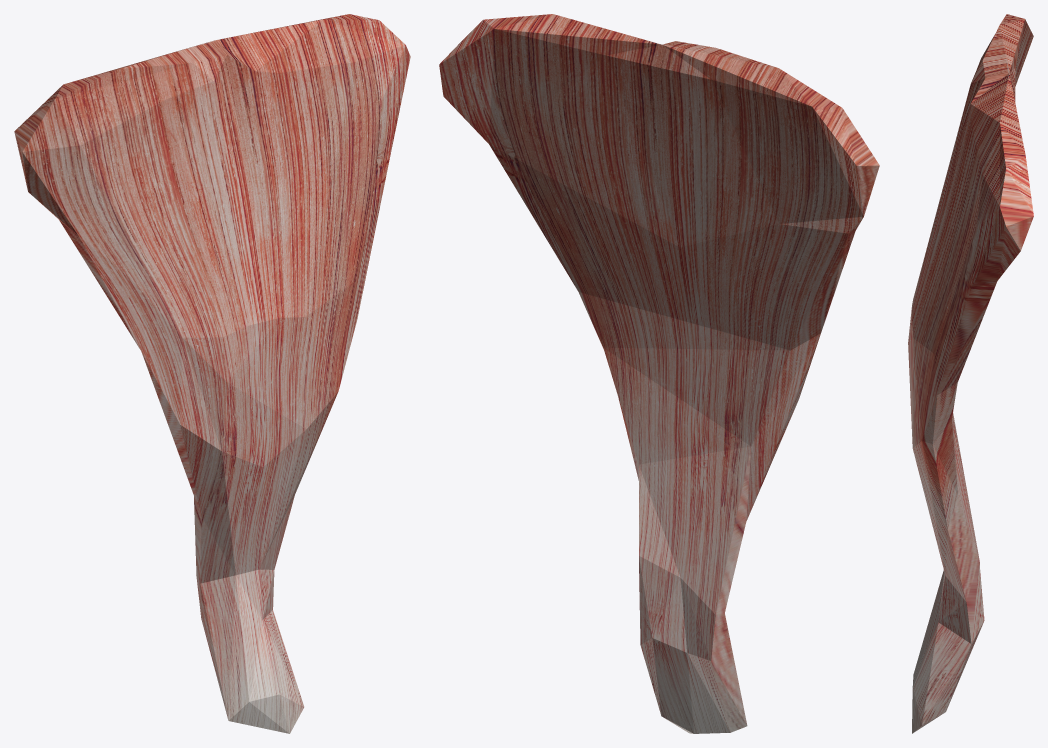
Rendered from Procerus.obj.
The picture shows the model from 3 angles, left to right: view 1: azimuth 30°, elevation 25°; view 2: azimuth 150°, elevation 25°; view 3: azimuth 270°, elevation 25°; orthographic projection. The views are drawn at different scales.
Parts seen in each view (by area): view 1: Musculos_Cabeza_1:Procerus:Procerus; view 2: Musculos_Cabeza_1:Procerus:Procerus; view 3: Musculos_Cabeza_1:Procerus:Procerus.
Part boxes in pixels (x1,y1,x2,y2): Musculos_Cabeza_1:Procerus:Procerus: (14, 14, 410, 733); Musculos_Cabeza_1:Procerus:Procerus: (439, 14, 879, 733); Musculos_Cabeza_1:Procerus:Procerus: (908, 14, 1033, 733).
Bounding box in the file's own units: 0.1418 × 0.2313 × 0.0406.
Materials: 1 (1 with a texture image).
